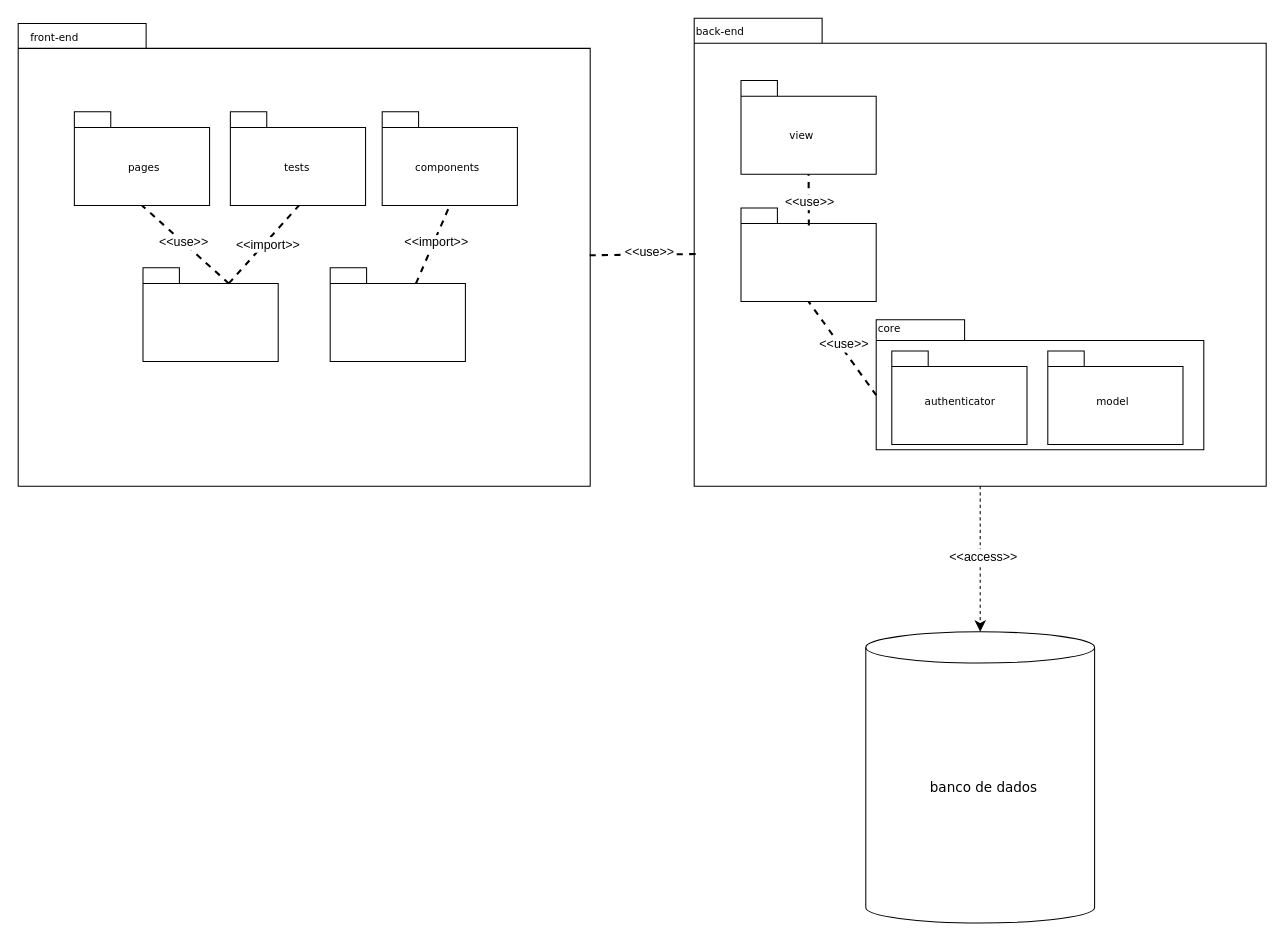
Image size: 1284x941. Some labels were removed from this diagram. The shapes that lost their labels are listed below. From the top down, each one's centre as x and y in pixels, then its label:
At [808,254]: "controller".
At [210,314]: "services".
At [397,314]: "assets".
